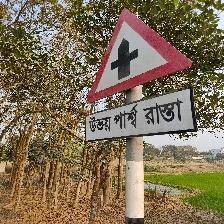Crossroad: (81, 0, 202, 150)
